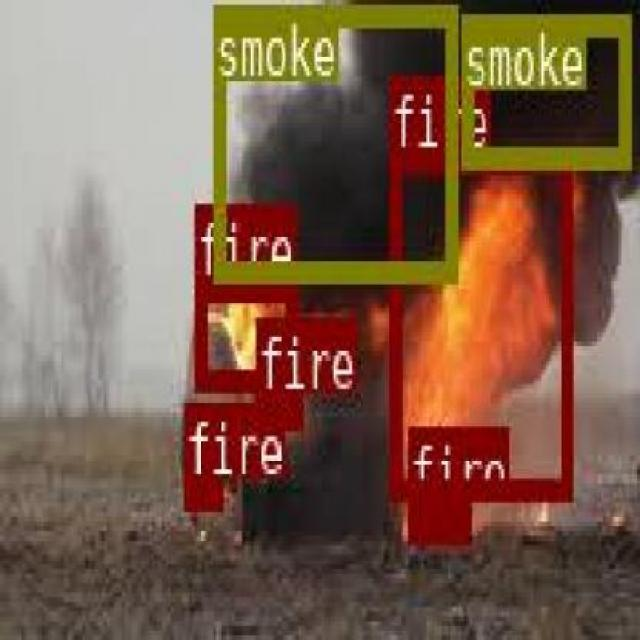fire: (388, 149, 570, 494), (195, 274, 296, 388), (408, 502, 470, 538), (254, 388, 300, 426), (183, 474, 222, 508)
smoke: (213, 3, 454, 280), (460, 11, 629, 164)
